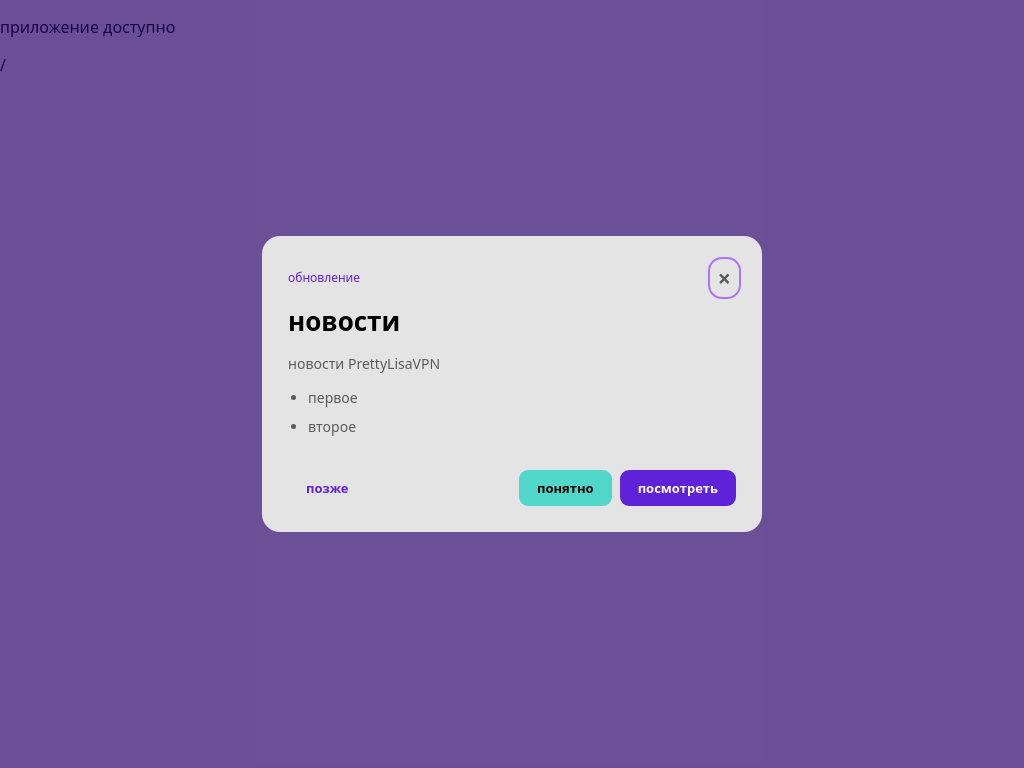
post-authentication messages › shows the backend queue in order and drops expired messages
The image size is (1024, 768).
Check: the dialog "новости" is shown, box [262, 236, 762, 532]
What coordinates should you click on to do the following:
click the button "понятно"
I would click on:
 (565, 488)
Its box is [519, 470, 612, 506].
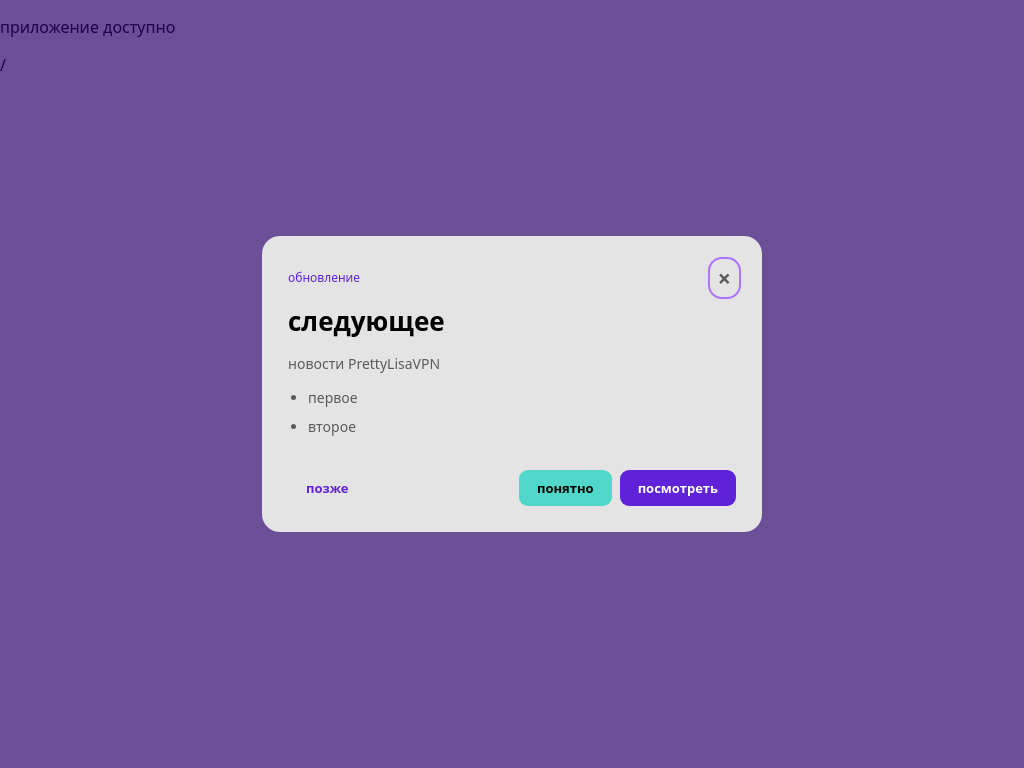
Check: the dialog "следующее" is shown, box [262, 236, 762, 532]
